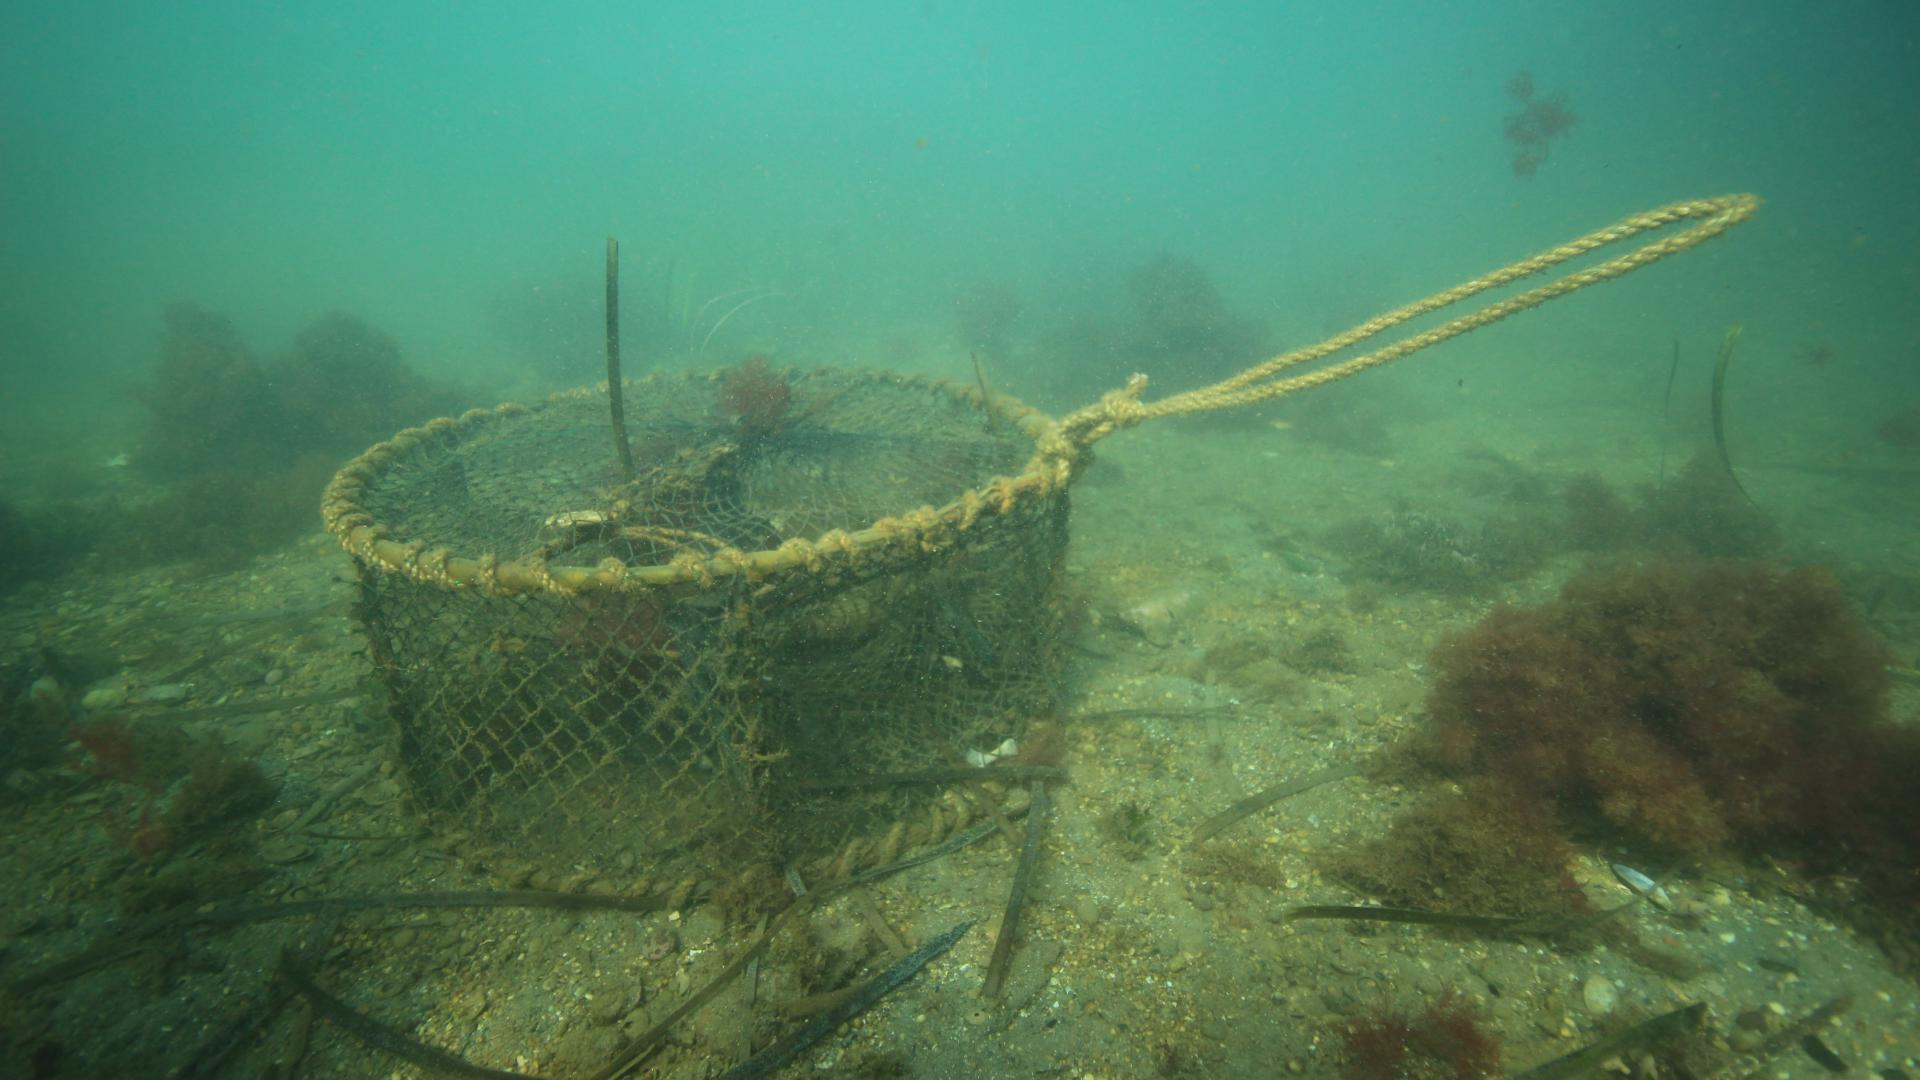circular fish trap: (316, 357, 1079, 909)
rope: (1069, 193, 1767, 440)
